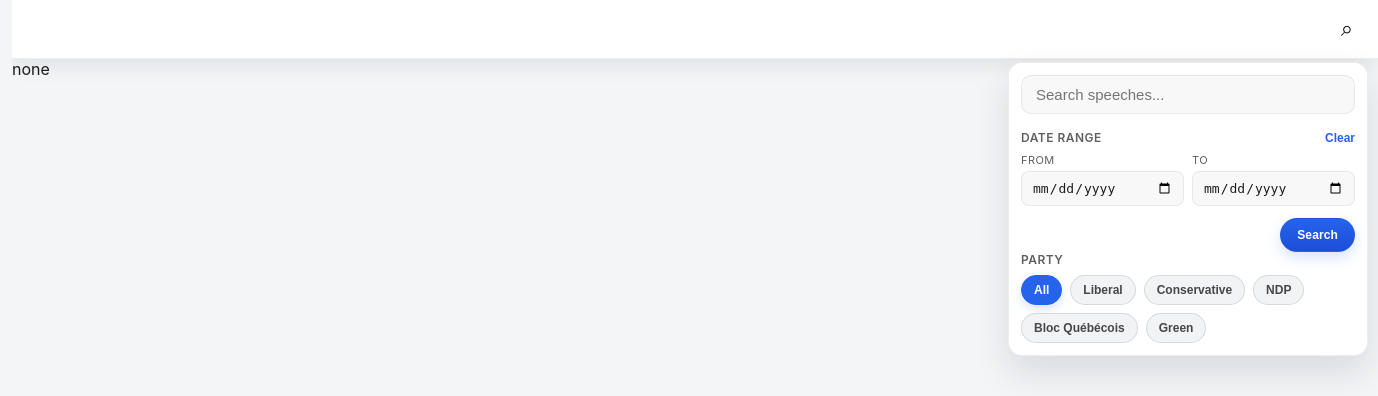
Test: SpeechContent › requires an explicit search action instead of running on each keystroke
The width and height of the screenshot is (1378, 396).
Step 1. Type "budget" into the field labelled "Search speeches..." → (1188, 94), box [1021,75,1355,114]
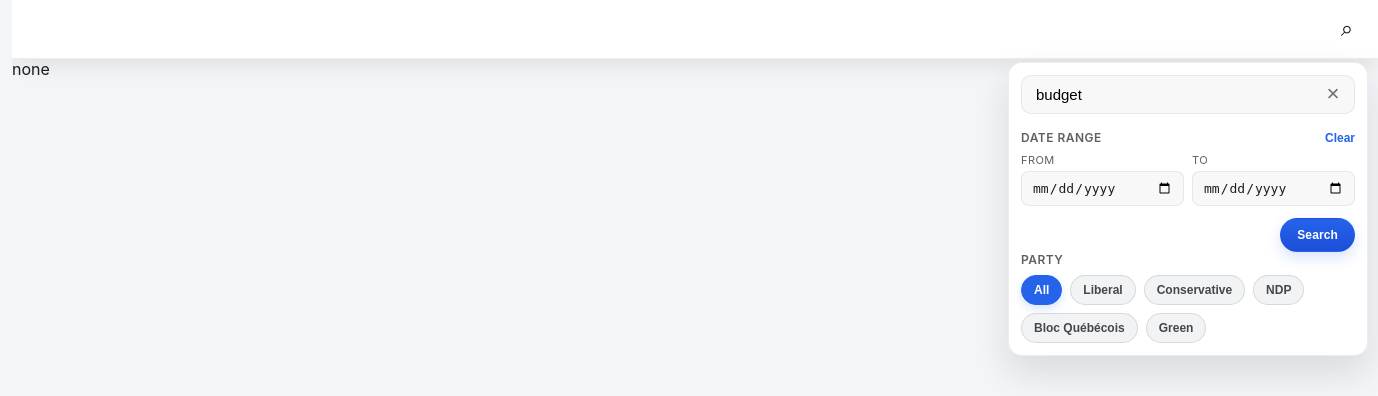
Expected: the text with test id "applied-query" reads "none", [12,59,50,79]
Step 2. Click the button "Search" → (1318, 235), box [1280,218,1355,252]
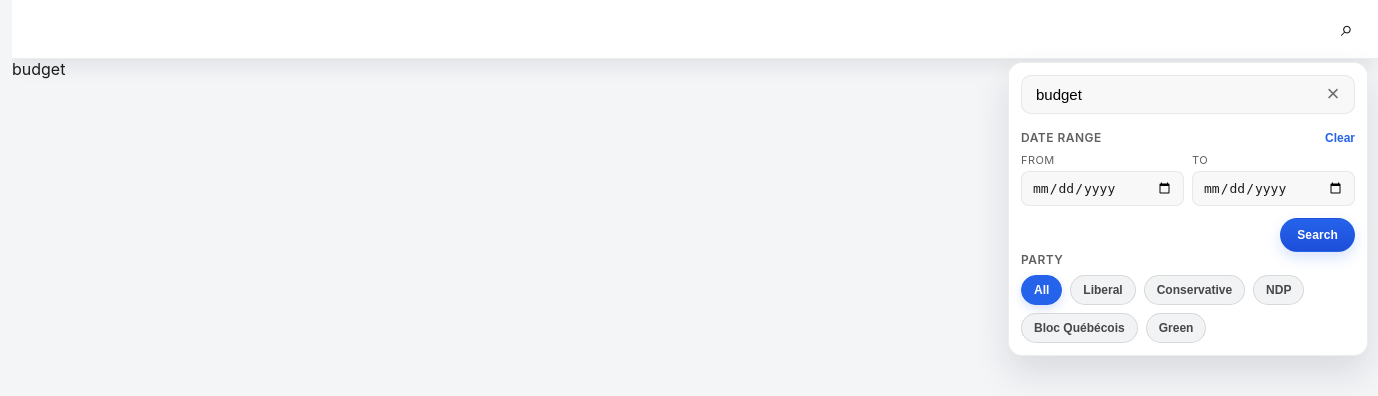
Expected: the text with test id "applied-query" reads "budget", [12,59,65,79]
